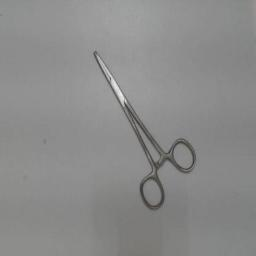Mayo Needle Holder: (87, 43, 199, 215)
